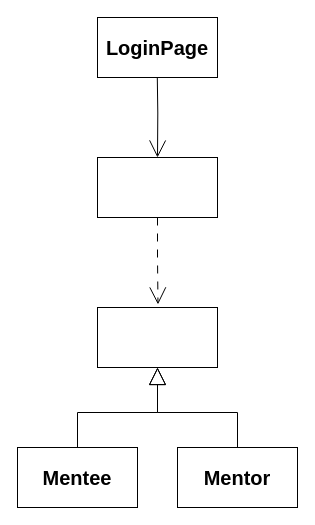
The diagram is 315 pixels wide and 525 high, and some of its shapes have lost their labels. Here are the shapes that lost their labels. From the top down, the box of each, then its label:
(96, 156, 218, 218): UserControl
(96, 306, 218, 368): User
